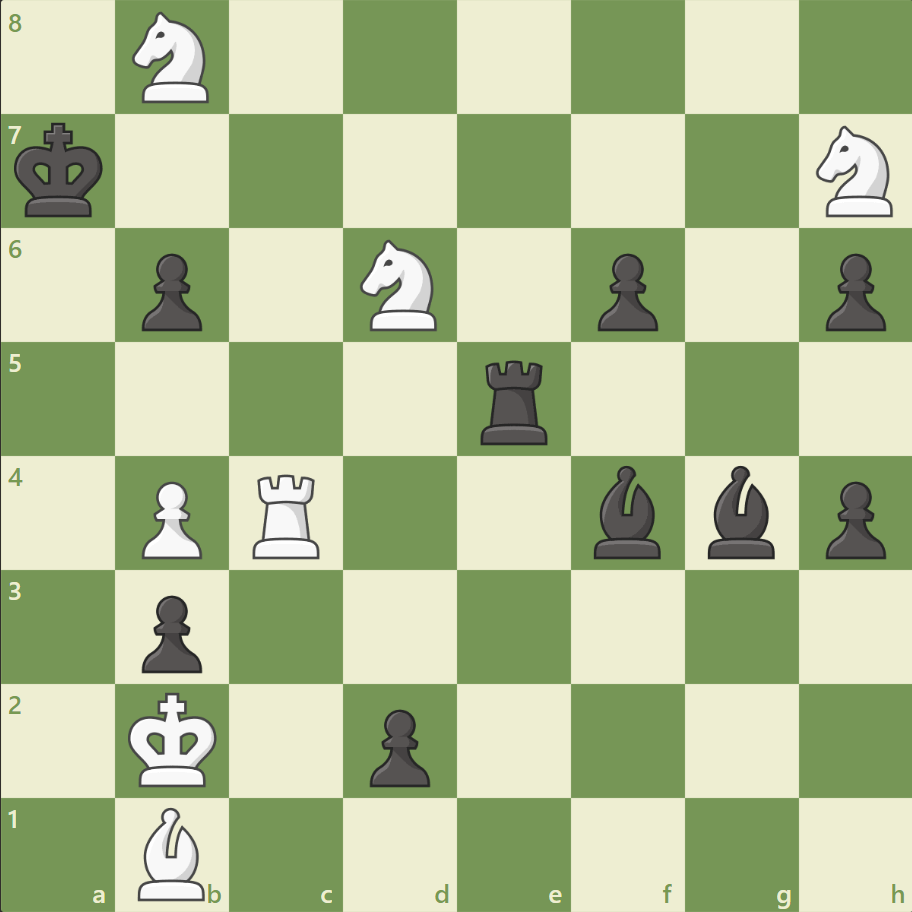B: (131, 801, 215, 904)
K: (124, 685, 224, 793)
N: (124, 7, 222, 110), (351, 234, 449, 337), (806, 121, 903, 223)
P: (133, 473, 208, 564)
R: (246, 466, 329, 563)
b: (585, 460, 669, 563), (698, 460, 782, 563)
k: (11, 117, 111, 225)
p: (133, 246, 208, 337), (133, 586, 208, 677), (588, 246, 662, 337), (815, 246, 889, 337), (815, 473, 889, 564), (361, 700, 435, 791)
r: (473, 352, 556, 449)
